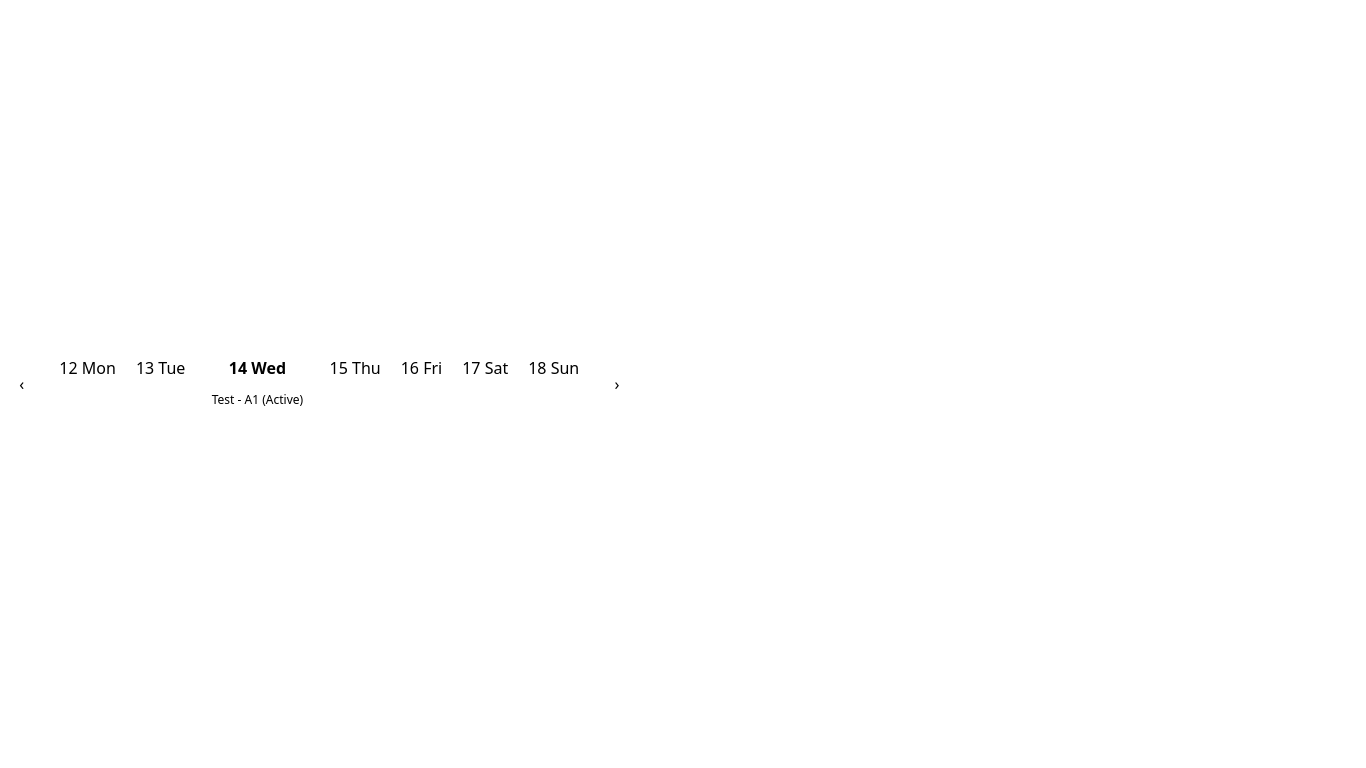
Test: WeekCalendar › opens event details when event clicked
The width and height of the screenshot is (1366, 768).
Click the button "Test - A1 (Active)". click: (258, 399)
box: [197,383,318,415]
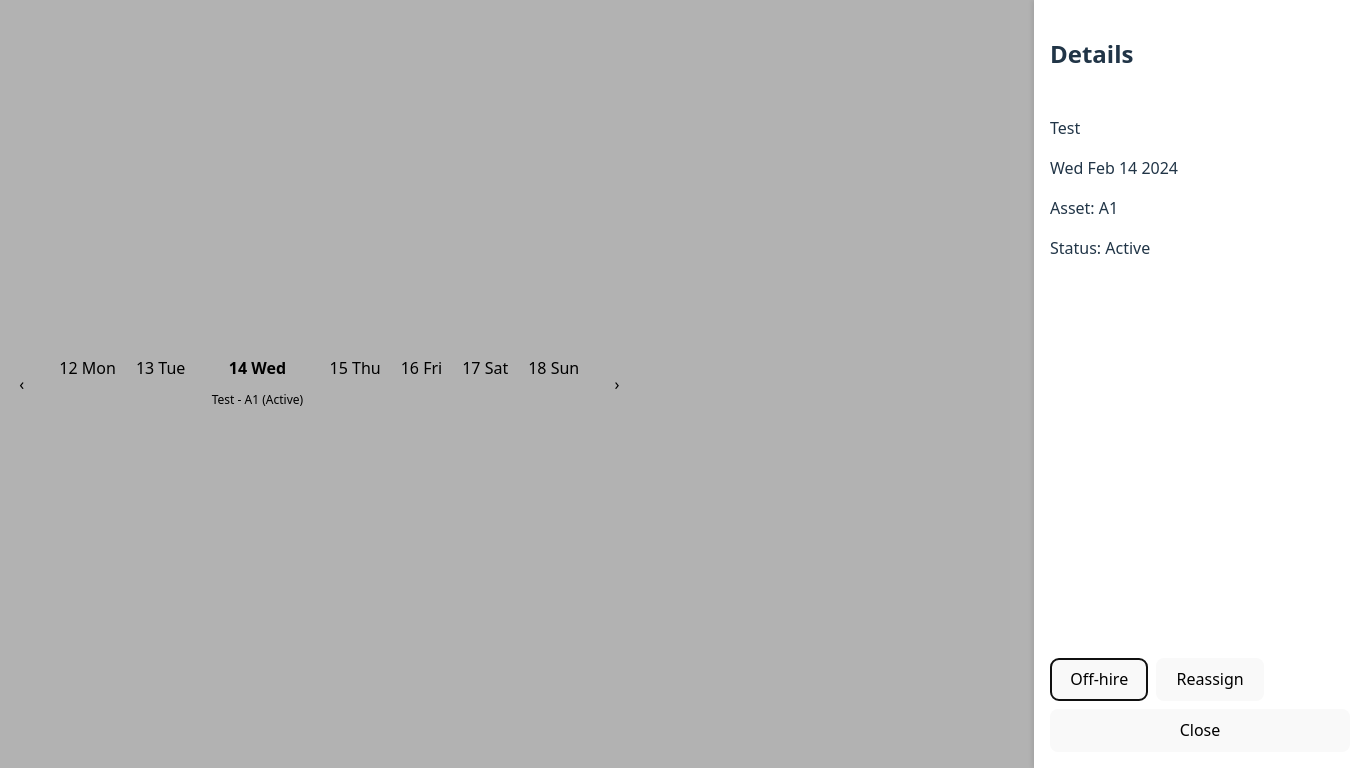
Expected: the button "Off-hire" is shown, [1050,658,1148,701]
